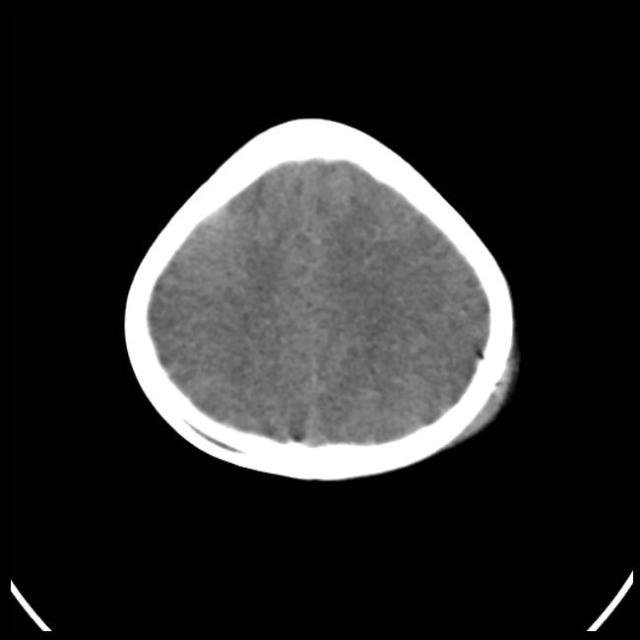lesion: (120, 112, 524, 486)
